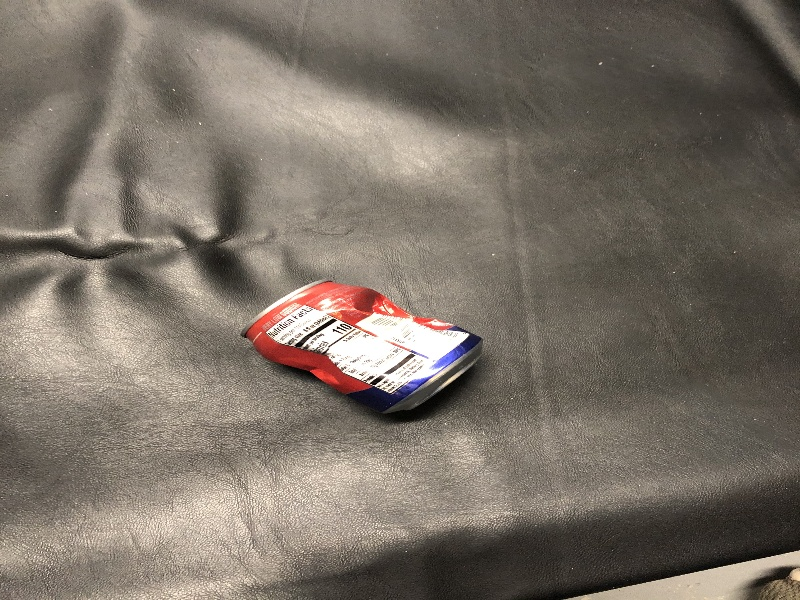metal: (228, 263, 496, 426)
